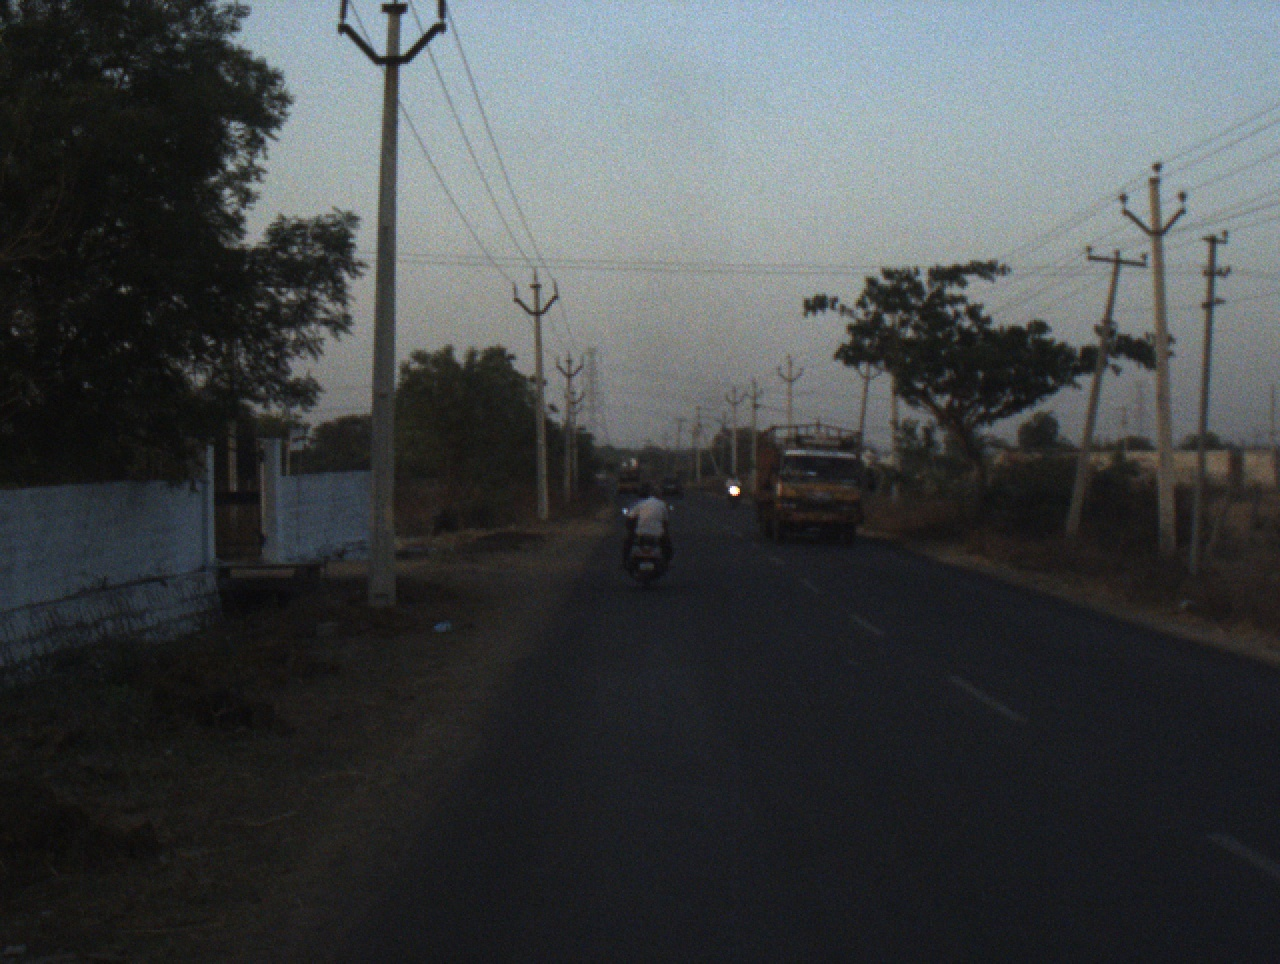autorickshaw: (613, 454, 646, 497)
car: (660, 474, 684, 502)
motorcycle: (616, 502, 676, 588), (727, 485, 742, 508)
rider: (616, 489, 674, 574), (623, 480, 651, 515), (726, 473, 744, 491)
truck: (754, 417, 871, 548)
